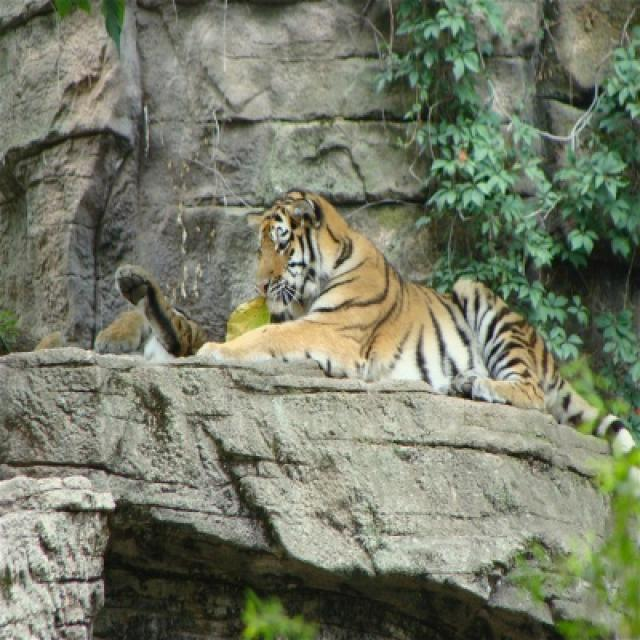Tiger: (211, 185, 638, 466)
